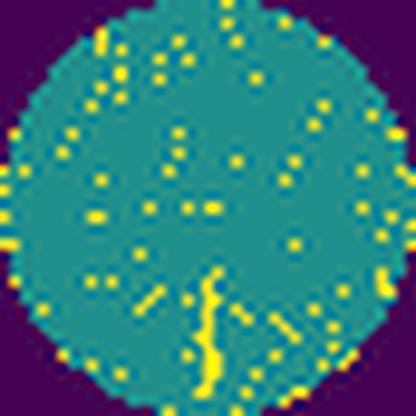Scratch: (187, 257, 236, 406)
